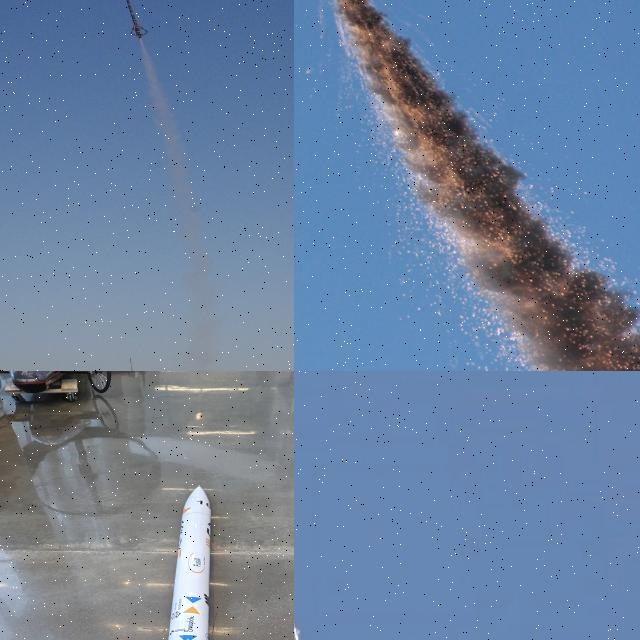Rocket: (168, 485, 211, 640), (124, 0, 149, 39), (294, 620, 299, 638)
